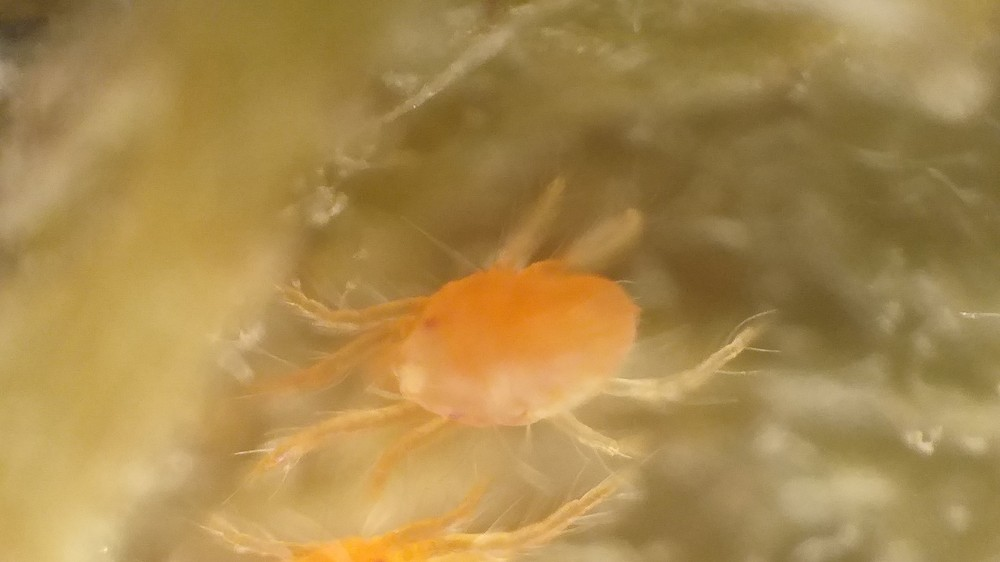Aracnido Rojo: (227, 190, 798, 527)
